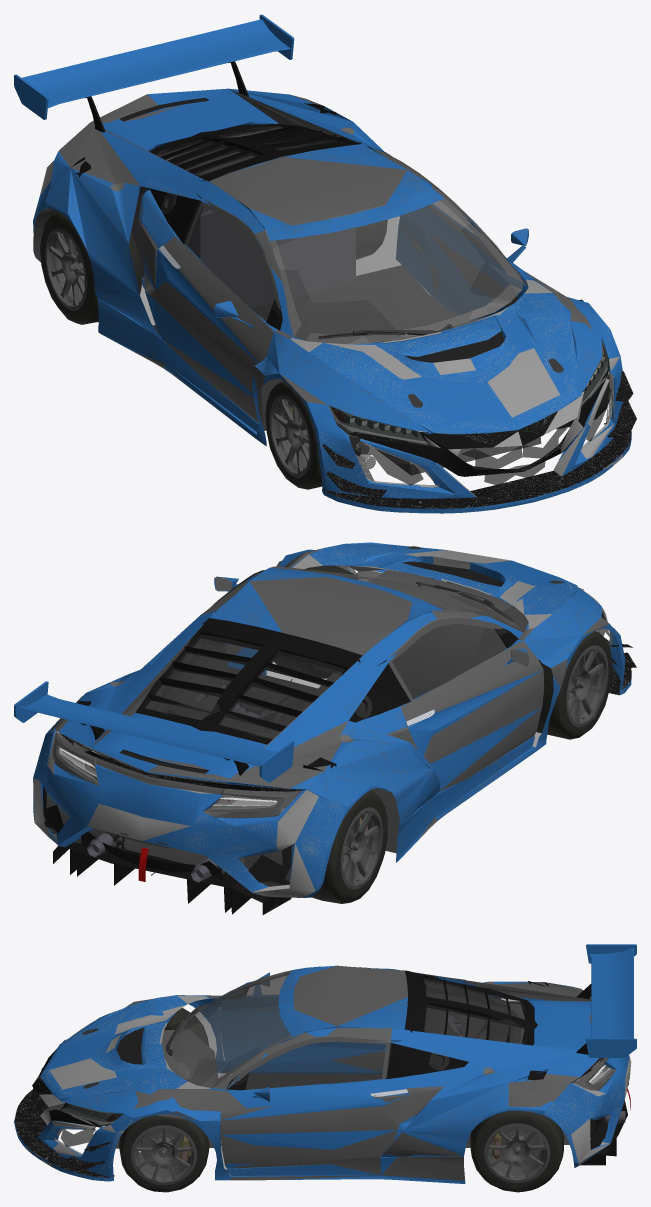
File: acura-nsx-gt3.obj
3 renders of one model, top to bottom at view 1: azimuth 30°, elevation 25°; view 2: azimuth 150°, elevation 25°; view 3: azimuth 270°, elevation 25°, orthographic. The views are drawn at different scales.
Parts seen in each view (by area): view 1: BODY, GLASS, WHEEL_RR, WHEEL_RF, WHEEL_LR; view 2: BODY, GLASS, WHEEL_RR, WHEEL_RF, WHEEL_LR, WHEEL_LF; view 3: BODY, GLASS, WHEEL_LR, WHEEL_LF, WHEEL_RF.
Boxes of the visible parts, box(x1,y1,x2,y2) form: BODY: box(14, 14, 636, 513); GLASS: box(129, 126, 611, 485); WHEEL_RR: box(40, 211, 142, 324); WHEEL_RF: box(265, 381, 360, 489); WHEEL_LR: box(356, 220, 387, 259); BODY: box(14, 542, 636, 914); GLASS: box(53, 566, 609, 848); WHEEL_RR: box(312, 790, 387, 903); WHEEL_RF: box(536, 631, 612, 739); WHEEL_LR: box(59, 733, 300, 791); WHEEL_LF: box(274, 565, 357, 678); BODY: box(14, 944, 636, 1183); GLASS: box(32, 970, 616, 1175); WHEEL_LR: box(470, 1058, 603, 1192); WHEEL_LF: box(118, 1115, 209, 1192); WHEEL_RF: box(164, 1008, 208, 1045).
Size of the model in its own units: 2.11 by 1.2 by 4.61.
